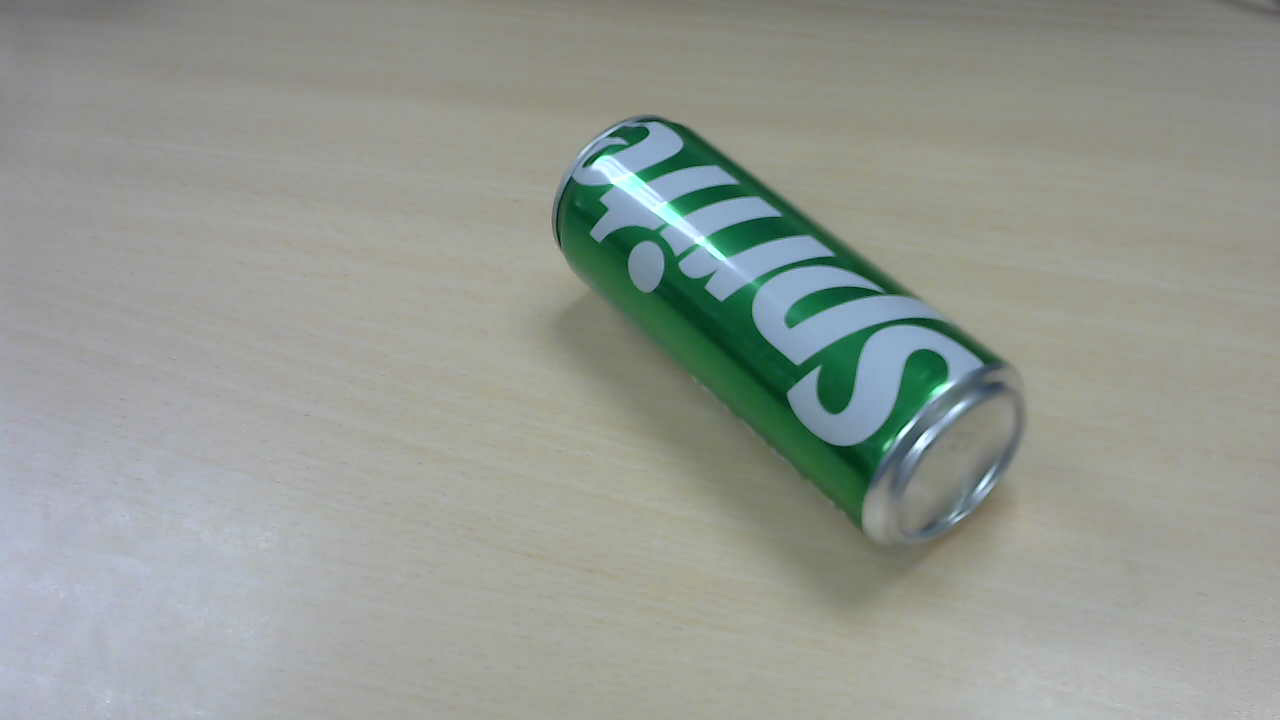Sprite: (556, 115, 1028, 550)
